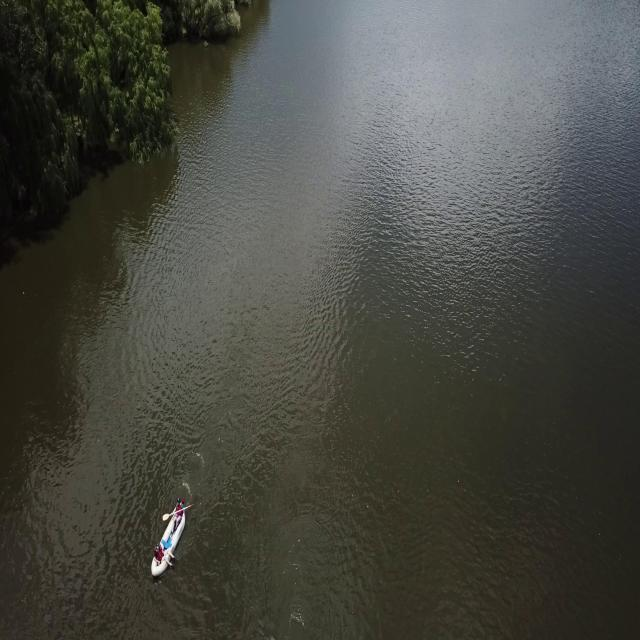kayak: (149, 494, 190, 579)
